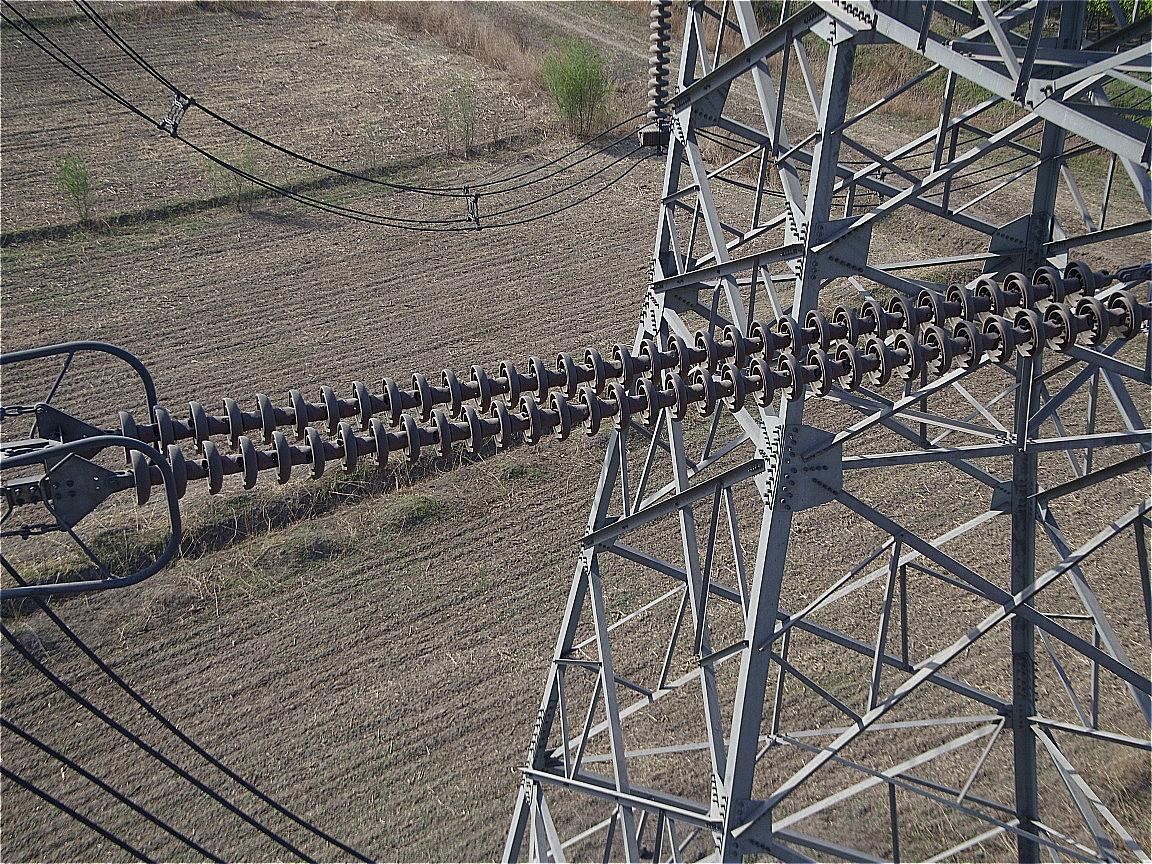insultor1: (119, 260, 1142, 508)
